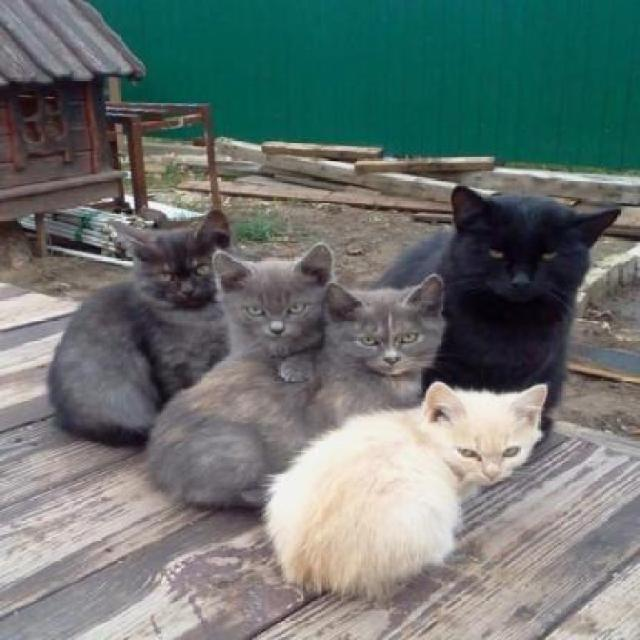cat: (273, 386, 572, 605), (382, 180, 626, 429), (186, 280, 437, 474), (29, 210, 232, 432), (200, 240, 332, 378)
